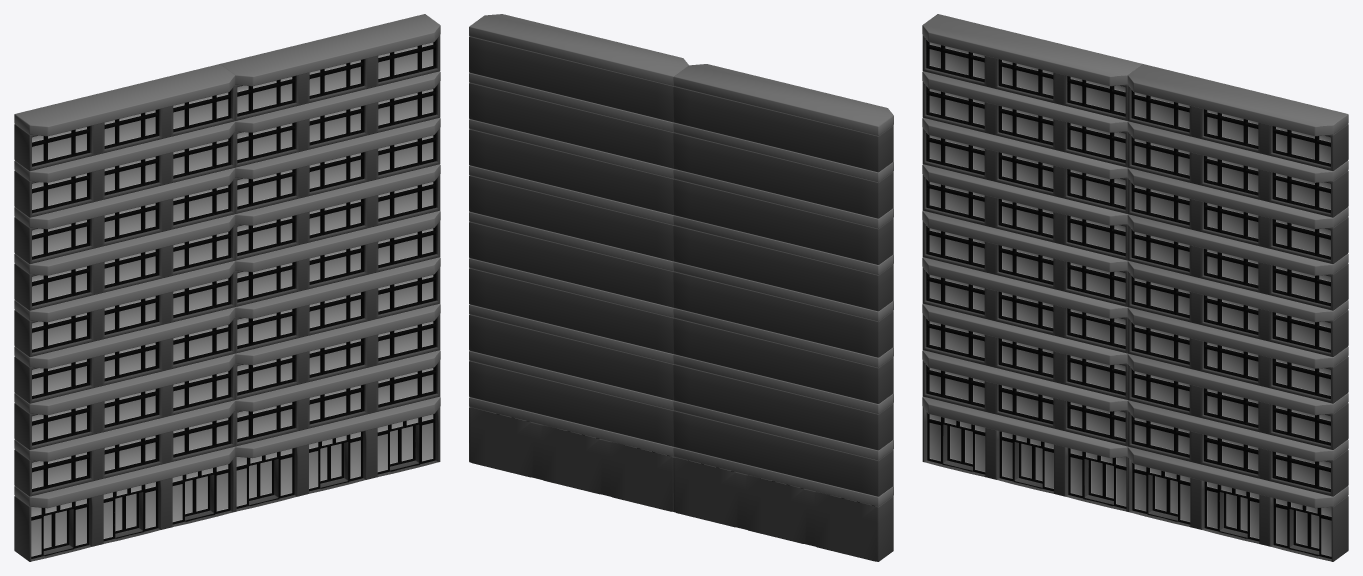
The model's file is building.fbx.
3 views of the same model, side by side, from view 1: azimuth 30°, elevation 25°; view 2: azimuth 150°, elevation 25°; view 3: azimuth 330°, elevation 25° (orthographic).
Parts seen in each view (by area): view 1: building.010; view 2: building.010; view 3: building.010.
Part boxes in pixels (left/top/right/bottom): building.010: left=14, top=14, right=440, bottom=561; building.010: left=469, top=14, right=893, bottom=561; building.010: left=922, top=14, right=1348, bottom=561.
Size of the model in its own units: 5790 by 5885 by 527.
